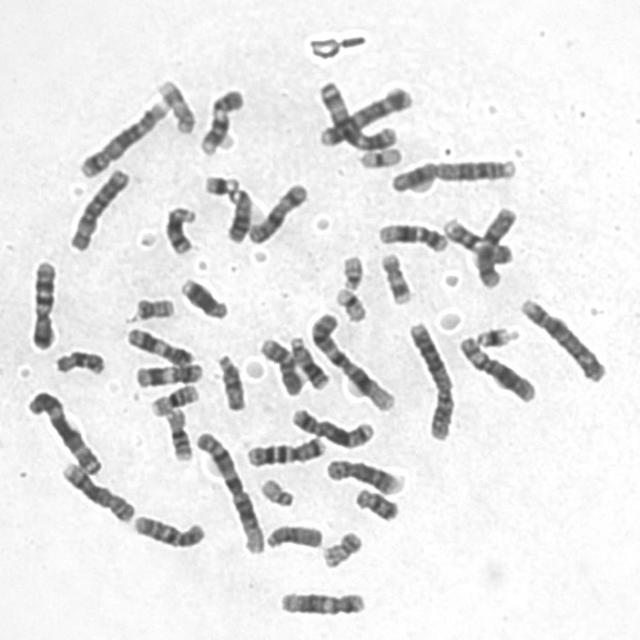A1: (304, 306, 398, 414), (190, 426, 267, 556)
A2: (403, 316, 457, 442), (386, 151, 519, 195)
A3: (22, 384, 105, 477), (314, 78, 400, 150)
B4: (515, 292, 609, 384), (318, 88, 415, 148)
B5: (75, 94, 171, 180), (287, 402, 376, 450)
C10: (128, 508, 208, 550), (255, 332, 305, 397)
C11: (122, 323, 195, 367), (130, 358, 206, 388)
C12: (274, 585, 368, 618), (372, 217, 450, 253)
C6: (453, 330, 539, 404), (64, 162, 132, 253)
C7: (25, 254, 59, 352), (241, 431, 328, 469)
C8: (58, 456, 138, 524), (320, 452, 406, 497)
C9: (439, 212, 515, 266), (195, 83, 246, 156)
D13: (285, 330, 331, 391), (221, 184, 253, 245)
D14: (176, 272, 230, 321), (160, 200, 198, 256)
D15: (212, 348, 249, 413), (261, 518, 326, 551)
E16: (159, 402, 195, 463), (146, 380, 200, 418)
E17: (151, 74, 198, 135), (376, 247, 414, 306)
E18: (349, 482, 402, 522), (50, 345, 107, 377)
F19: (330, 282, 370, 324), (353, 142, 404, 170)
F20: (317, 526, 365, 570), (130, 292, 177, 322)
G21: (470, 320, 520, 350), (198, 168, 240, 198)
G22: (255, 473, 296, 509), (336, 248, 366, 292)
X: (243, 178, 311, 246), (470, 201, 520, 291)
